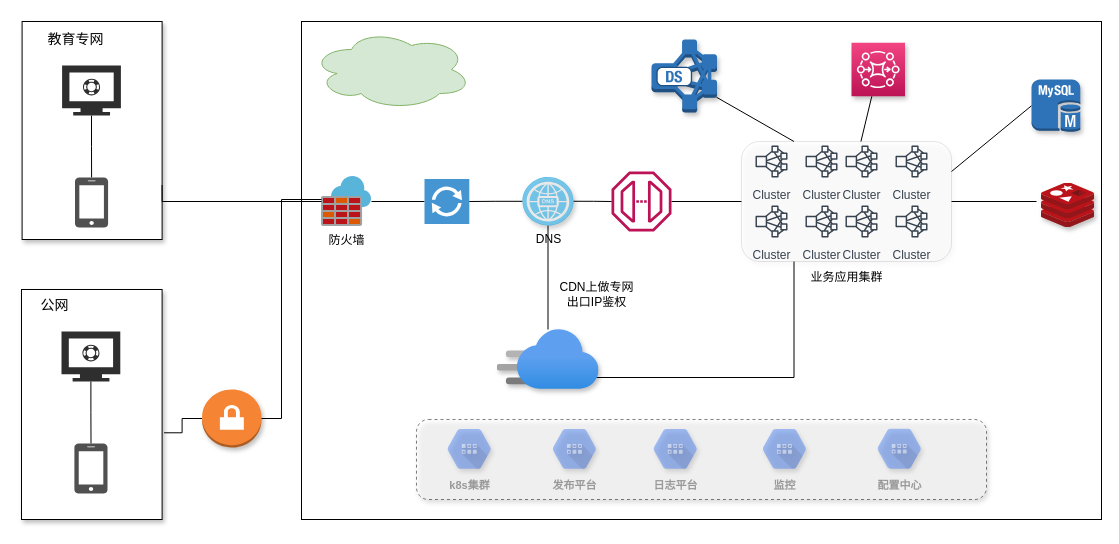
The diagram is 1119 pixels wide and 544 high, and some of its shapes have lost their labels. Here are the shapes that lost their labels. From the top down, the centre of each, then its label:
At [391,69]: "字节云".
At [684,77]: "对象存储".
At [878,70]: "MQ集群".
At [446,201]: "负载均衡".
At [641,201]: "gateway".
At [1068,206]: "Redis集群".
At [548,360]: "CDN".
At [232,419]: "VPN".
